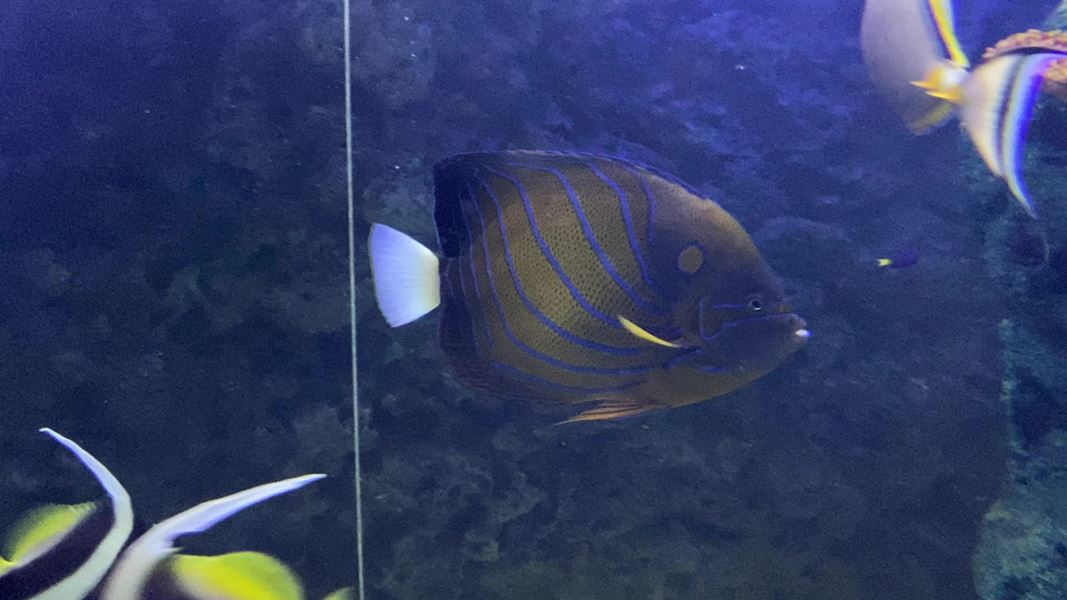Blue ring angelfish: (369, 141, 830, 460)
